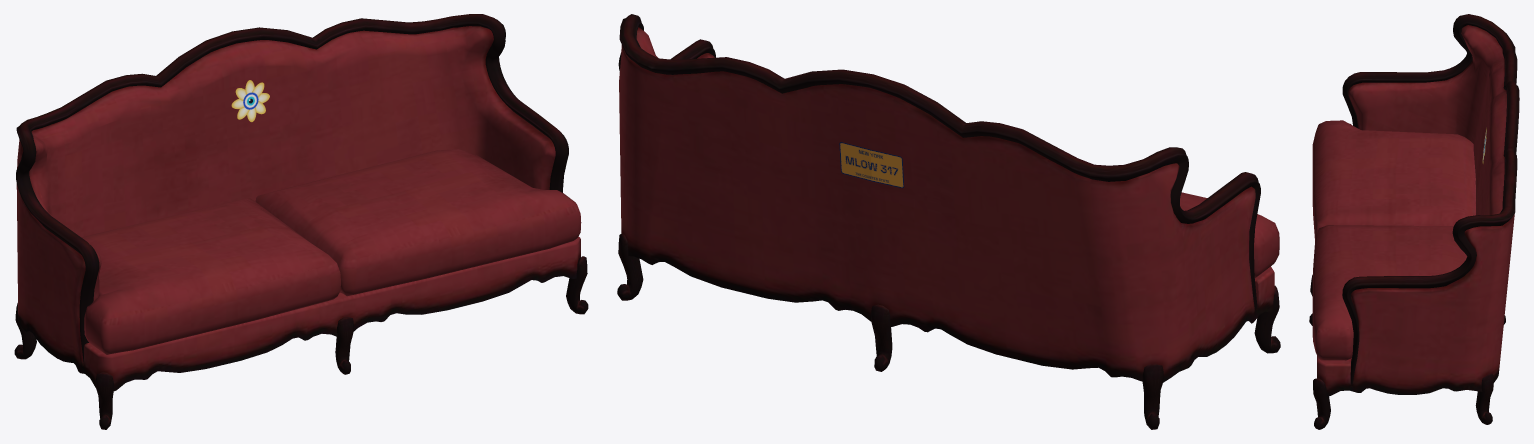
Rendered from nyb_lobby_sofa.glb.
The picture shows the model from 3 angles, left to right: view 1: azimuth 30°, elevation 25°; view 2: azimuth 150°, elevation 25°; view 3: azimuth 270°, elevation 25°; orthographic projection. The views are drawn at different scales.
Visible parts, largest first — view 1: Sofa_01, stk_eyeflower_gold.png; view 2: Sofa_01, stk_plate_mlow.png; view 3: Sofa_01.
Part boxes in pixels (left/top/right/bottom): Sofa_01: left=14, top=14, right=588, bottom=429; stk_eyeflower_gold.png: left=231, top=80, right=269, bottom=122; Sofa_01: left=617, top=14, right=1280, bottom=429; stk_plate_mlow.png: left=839, top=142, right=904, bottom=188; Sofa_01: left=1309, top=14, right=1519, bottom=429.
Bounding box in the file's own units: 1.57 × 0.7965 × 0.658.
Materials: 3 (3 with a texture image).
